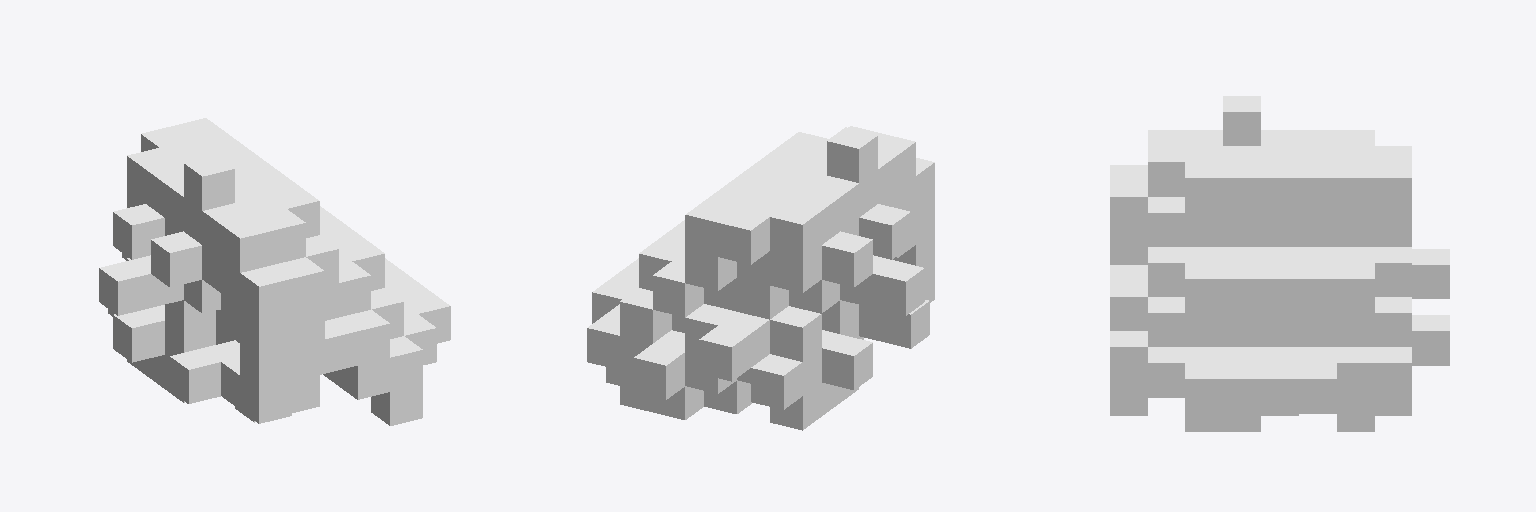
File: BossGibb3.obj
3 views of the same model, side by side, from view 1: azimuth 30°, elevation 25°; view 2: azimuth 150°, elevation 25°; view 3: azimuth 270°, elevation 25° (orthographic).
Visible parts, largest first — view 1: object 1; view 2: object 1; view 3: object 1.
Part boxes in pixels (left/top/right/bottom): object 1: left=99, top=118, right=450, bottom=425; object 1: left=587, top=126, right=934, bottom=430; object 1: left=1110, top=96, right=1449, bottom=431.
Size of the model in its own units: 0.9 by 0.7 by 0.9.